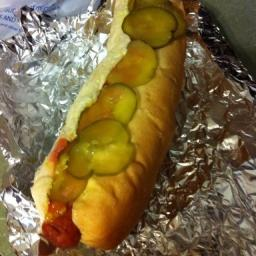hotdog: (38, 174, 78, 248)
